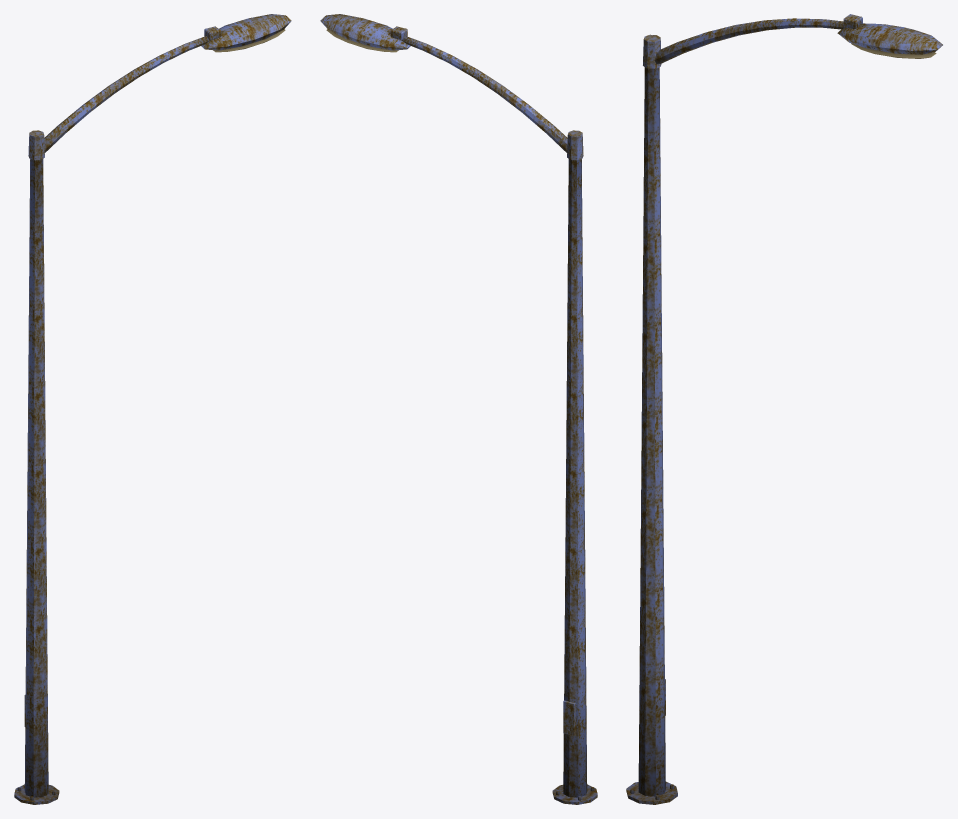
Rendered from street_lamp.glb.
The picture shows the model from 3 angles, left to right: view 1: azimuth 30°, elevation 25°; view 2: azimuth 150°, elevation 25°; view 3: azimuth 330°, elevation 25°; orthographic projection. The views are drawn at different scales.
Visible parts, largest first — view 1: street_lamp_galvanized; view 2: street_lamp_galvanized; view 3: street_lamp_galvanized.
Part boxes in pixels (x1,y1,x2,y2): street_lamp_galvanized: [14, 14, 291, 804]; street_lamp_galvanized: [320, 14, 597, 804]; street_lamp_galvanized: [626, 14, 942, 804].
Bounding box in the file's own units: 3.67 × 9.34 × 0.54.
2 materials, 1 textured.
